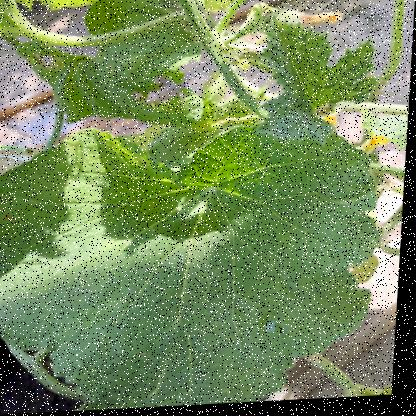Normal: (0, 116, 392, 415)
